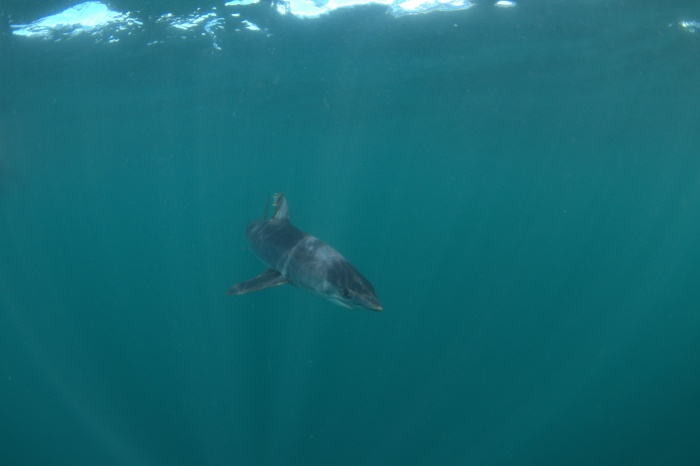Mako: (215, 182, 392, 321)
